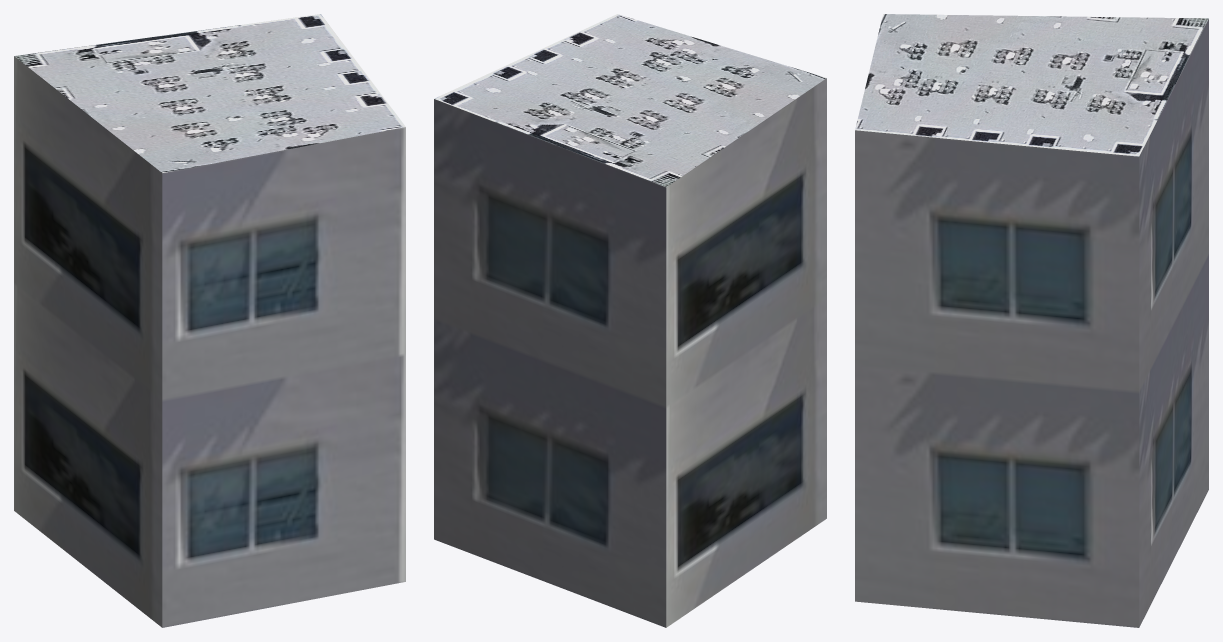
The model's file is ResTex__3053.fbx.
The picture shows the model from 3 angles, left to right: view 1: azimuth 30°, elevation 25°; view 2: azimuth 150°, elevation 25°; view 3: azimuth 270°, elevation 25°; orthographic projection. The views are drawn at different scales.
Visible parts, largest first — view 1: CityEngineMaterial_10_m, CityEngineMaterial_4_m; view 2: CityEngineMaterial_10_m, CityEngineMaterial_4_m; view 3: CityEngineMaterial_10_m, CityEngineMaterial_4_m.
Boxes of the visible parts, box(x1,y1,x2,y2) form: CityEngineMaterial_10_m: box(14, 56, 405, 627); CityEngineMaterial_4_m: box(14, 14, 405, 172); CityEngineMaterial_10_m: box(434, 78, 826, 627); CityEngineMaterial_4_m: box(434, 14, 826, 187); CityEngineMaterial_10_m: box(855, 19, 1208, 627); CityEngineMaterial_4_m: box(855, 14, 1208, 156).
Bounding box in the file's own units: 3.89 × 6 × 4.08.
2 materials, 2 textured.
